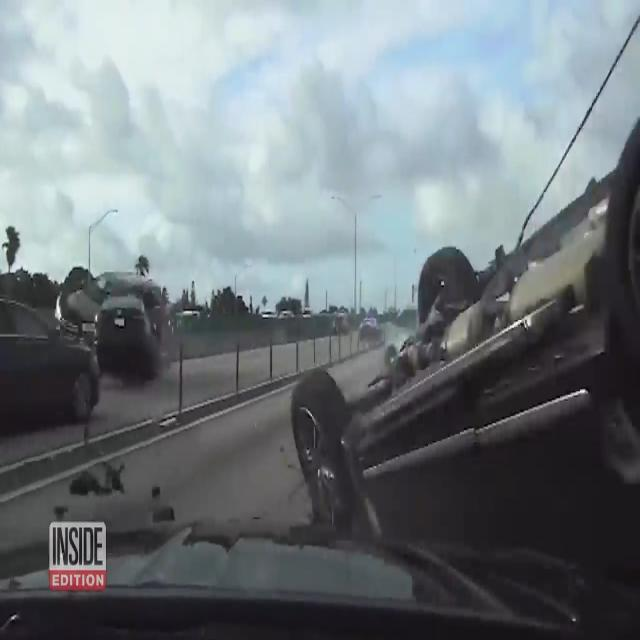accident: (284, 114, 640, 522)
